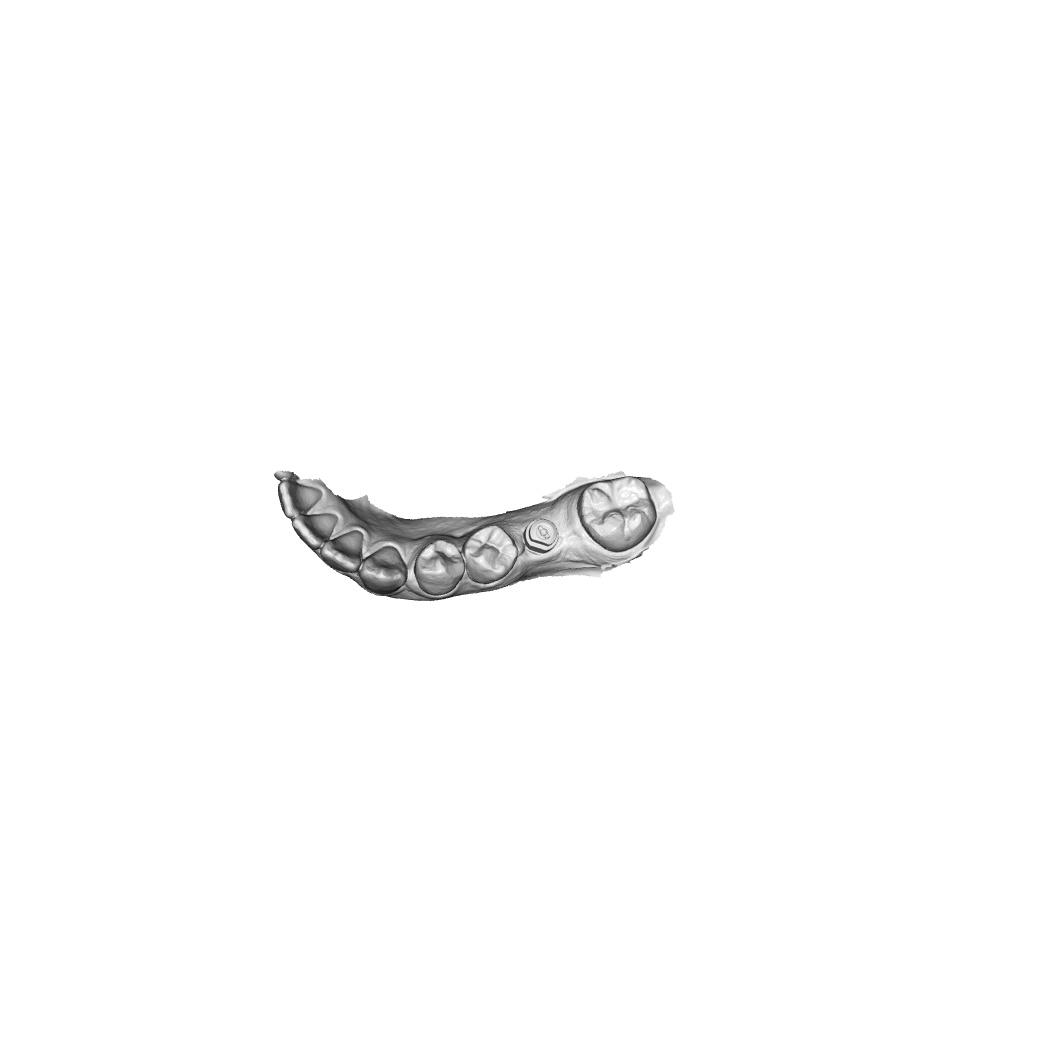canine: (358, 545, 409, 596)
implant_minus: (523, 516, 560, 555)
incisor: (319, 529, 365, 575), (290, 511, 339, 552), (276, 479, 324, 520)
molar: (575, 473, 659, 555)
premolar: (462, 522, 519, 587), (413, 538, 466, 597)
